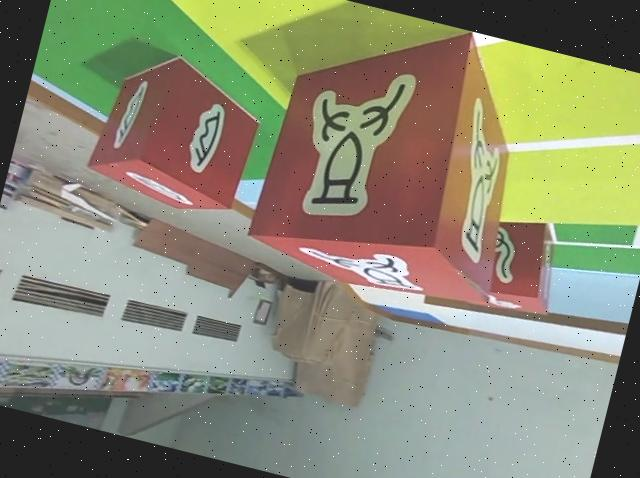R2 Real: (235, 0, 551, 321), (79, 39, 271, 226), (457, 204, 572, 327)
